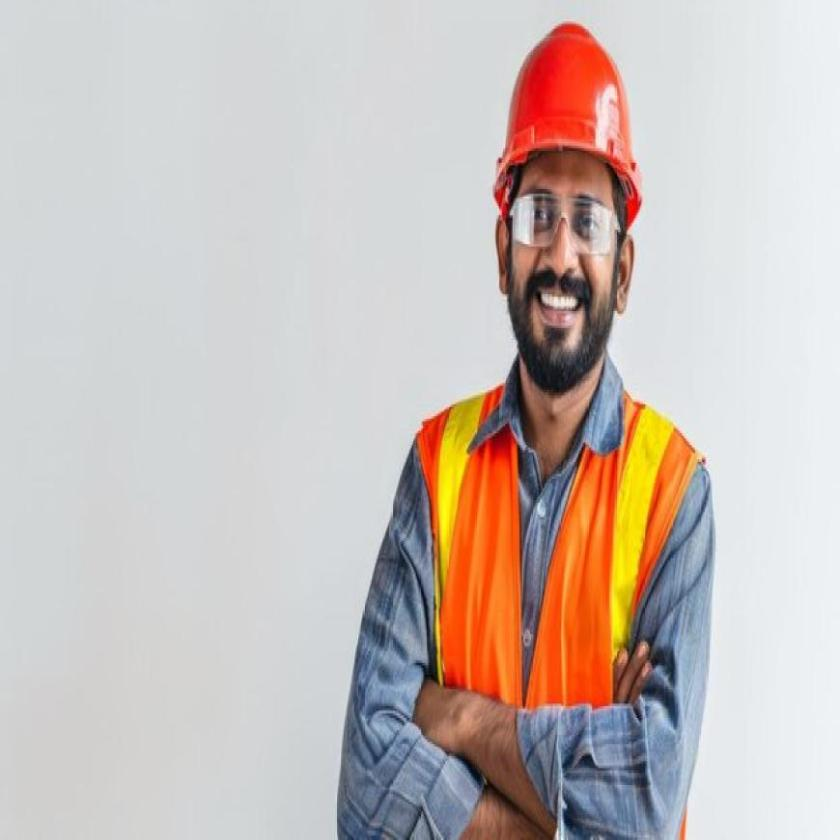Con_casco: (480, 9, 658, 416)
